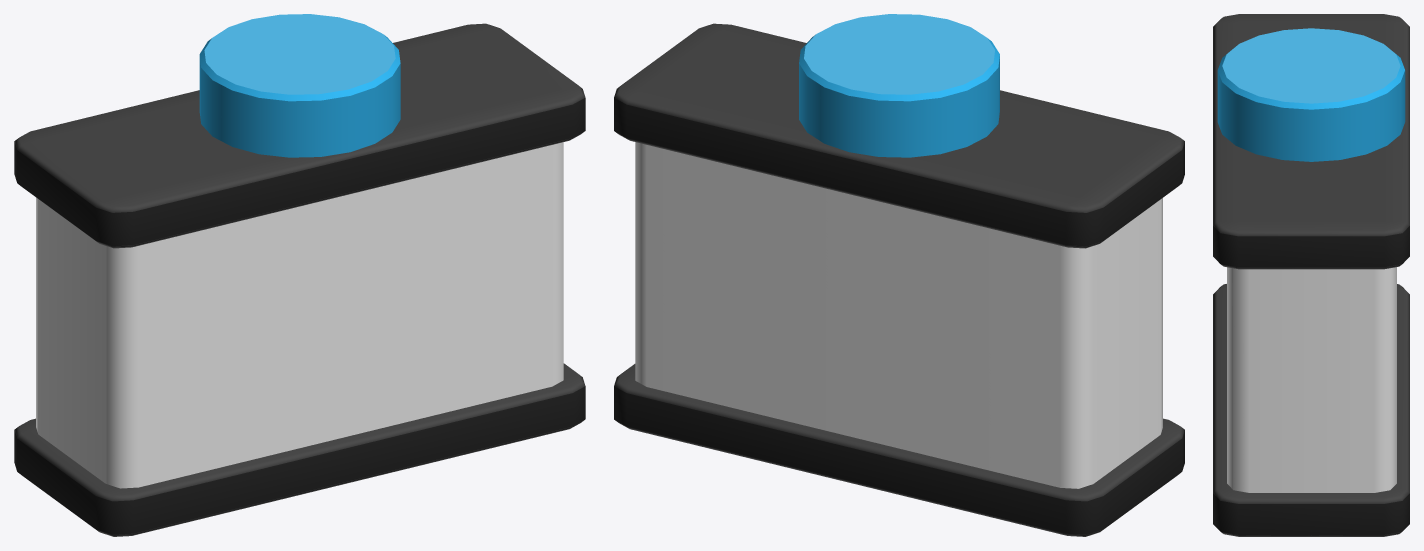
The model's file is Glass3x.fbx.
3 renders of one model, left to right at view 1: azimuth 30°, elevation 25°; view 2: azimuth 150°, elevation 25°; view 3: azimuth 270°, elevation 25°, orthographic. The views are drawn at different scales.
Visible parts, largest first — view 1: Glass_trans, Vach2, Vach1, pedestal; view 2: Glass_trans, Vach2, Vach1, pedestal; view 3: Glass_trans, Vach2, pedestal, Vach1.
Boxes of the visible parts, x1,y1,x2,y2 form: Glass_trans: (36, 142, 563, 488); Vach2: (14, 23, 585, 248); Vach1: (14, 363, 585, 536); pedestal: (199, 14, 400, 157); Glass_trans: (635, 142, 1162, 488); Vach2: (614, 23, 1184, 248); Vach1: (614, 364, 1184, 536); pedestal: (799, 14, 999, 157); Glass_trans: (1227, 267, 1396, 492); Vach2: (1213, 14, 1409, 269); pedestal: (1217, 28, 1405, 161); Vach1: (1213, 284, 1409, 536).
Size of the model in its own units: 818 by 628 by 309.
